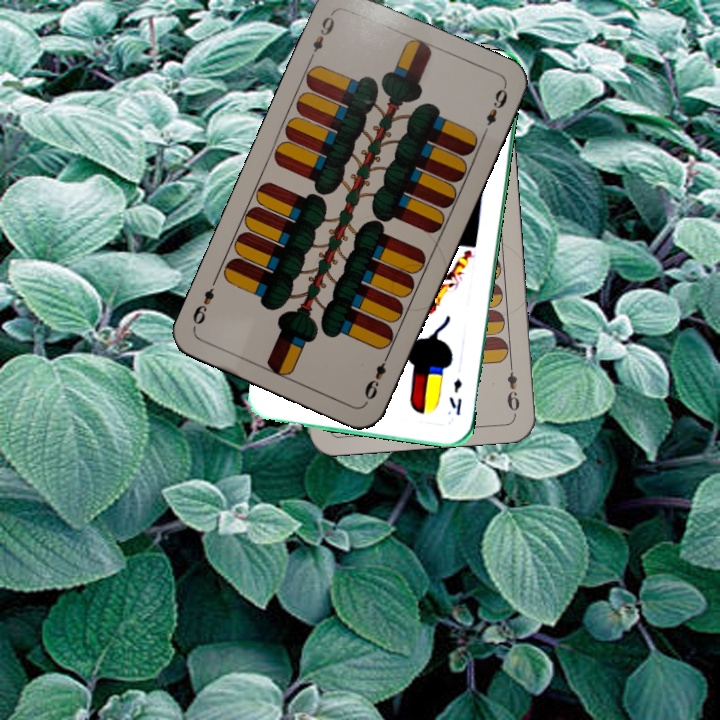E9: (360, 349, 392, 405), (305, 8, 337, 64), (503, 357, 523, 416)
EK: (445, 375, 465, 418)
